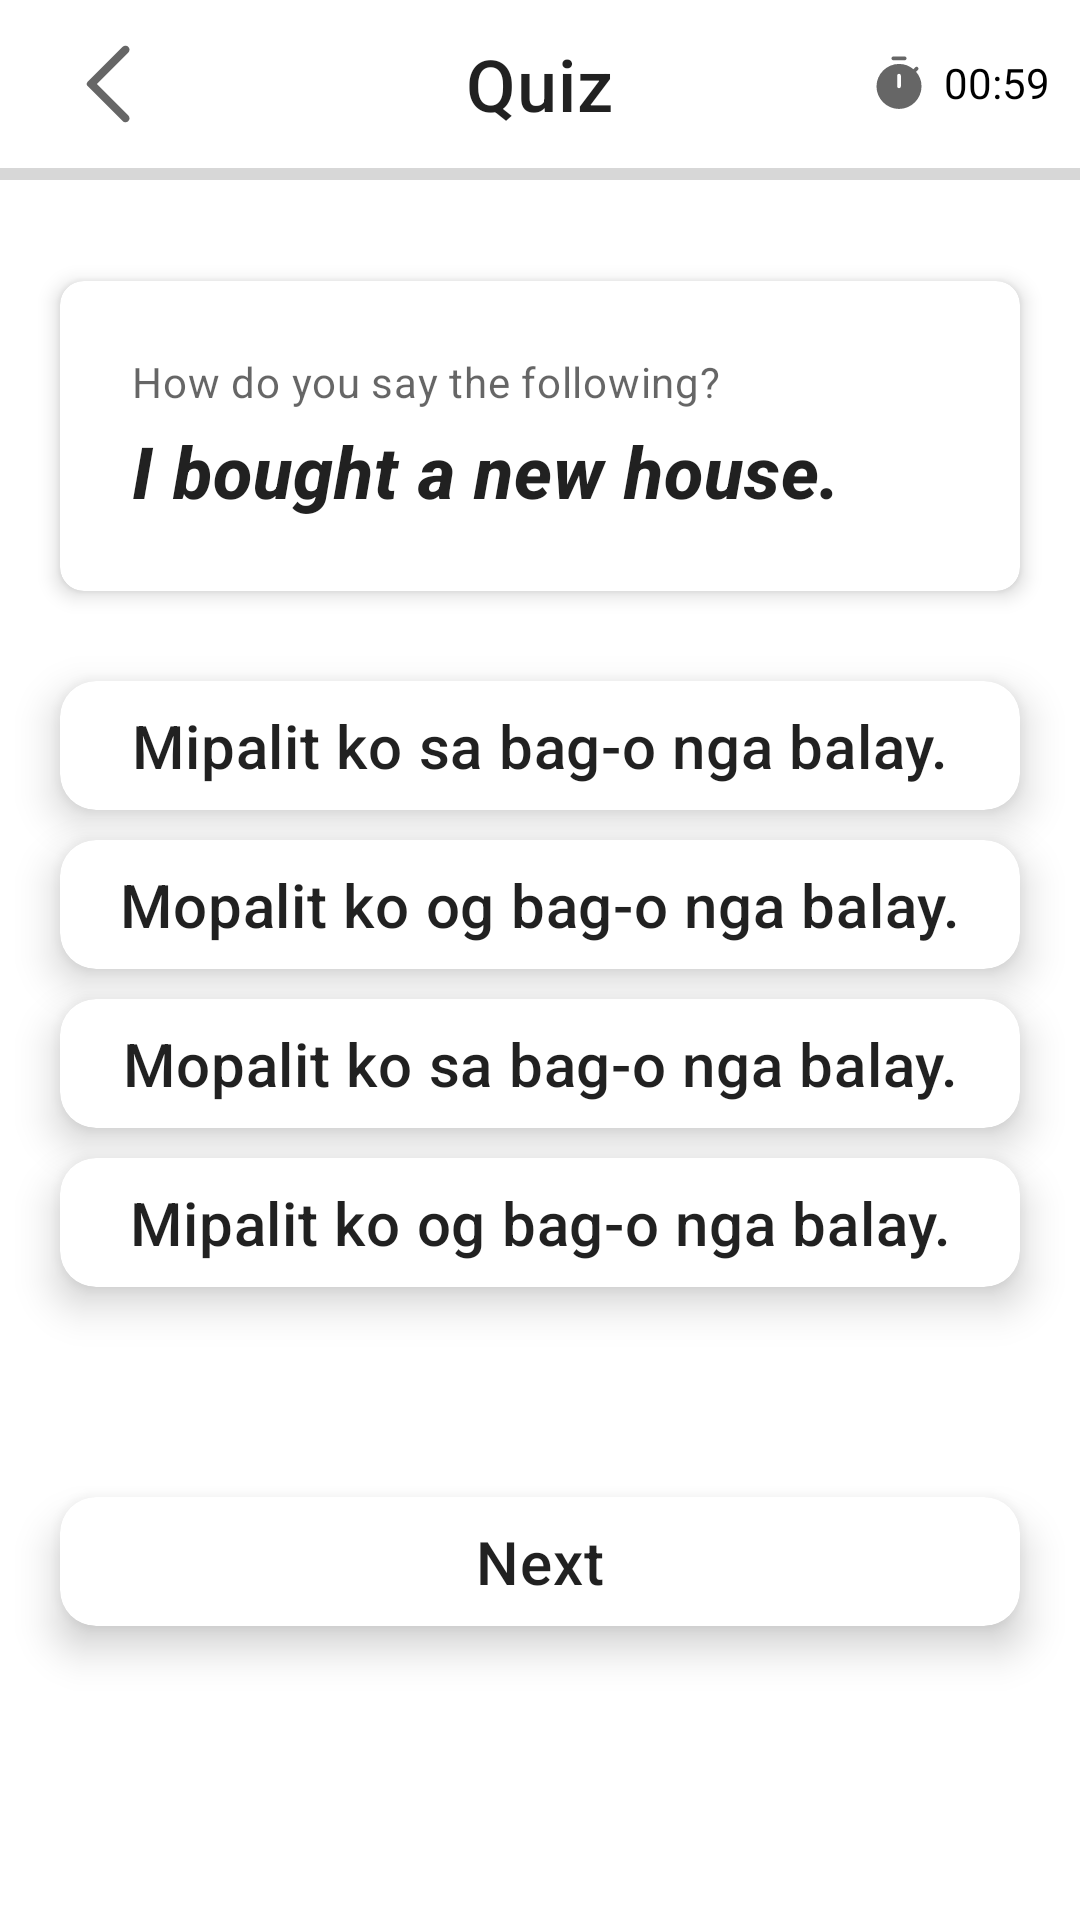

Icons on this 1080×1920 Android screen, each with the point to tap as [x,y]:
back: [108,84]
timer: [899,82]
